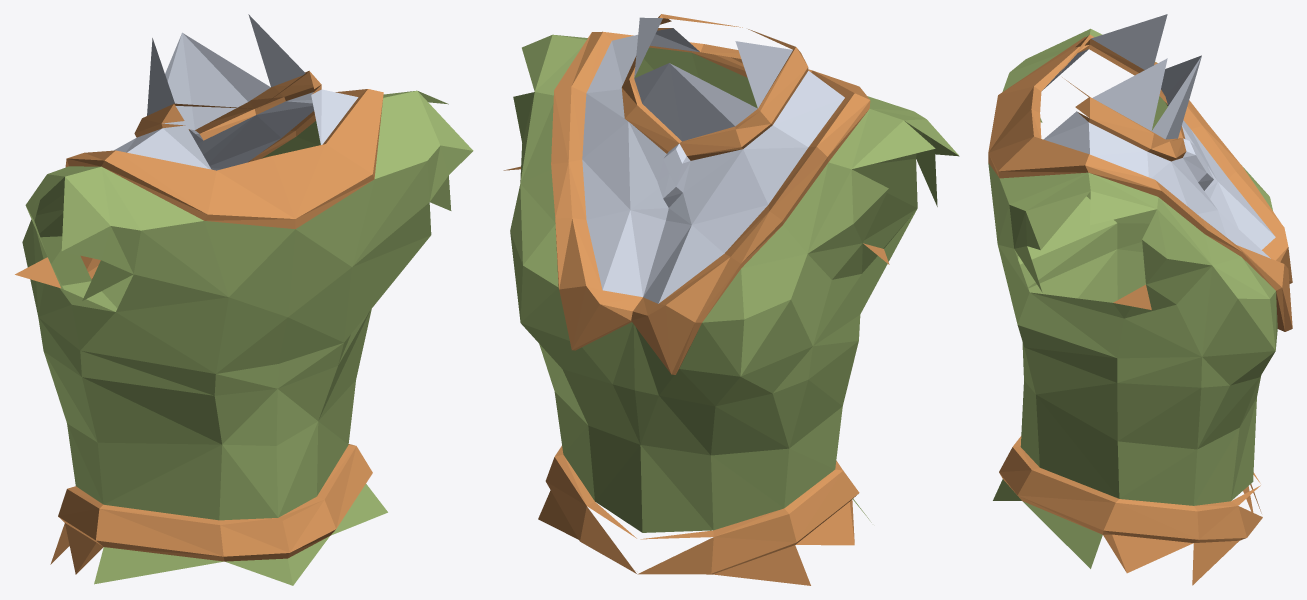
File: Torso.obj
3 renders of one model, left to right at view 1: azimuth 30°, elevation 25°; view 2: azimuth 150°, elevation 25°; view 3: azimuth 270°, elevation 25°, orthographic. The views are drawn at different scales.
Size of the model in its own units: 0.4676 by 0.5543 by 0.3142.
Materials: 1 (1 with a texture image).
